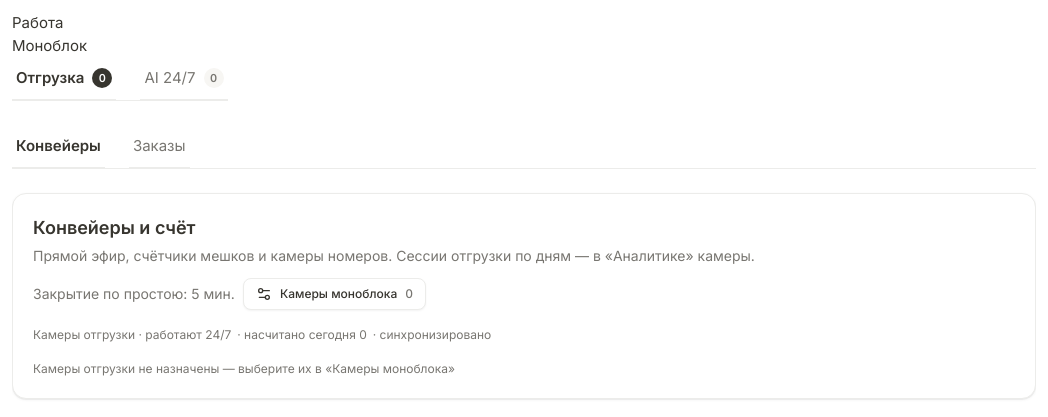
Scenario: доступ к AI 24/7 на странице моноблока › показывает настройку AI 24/7 только суперпользователю
Click the tab "AI 24/7 0" at (184, 79), box [140,57,228,101]
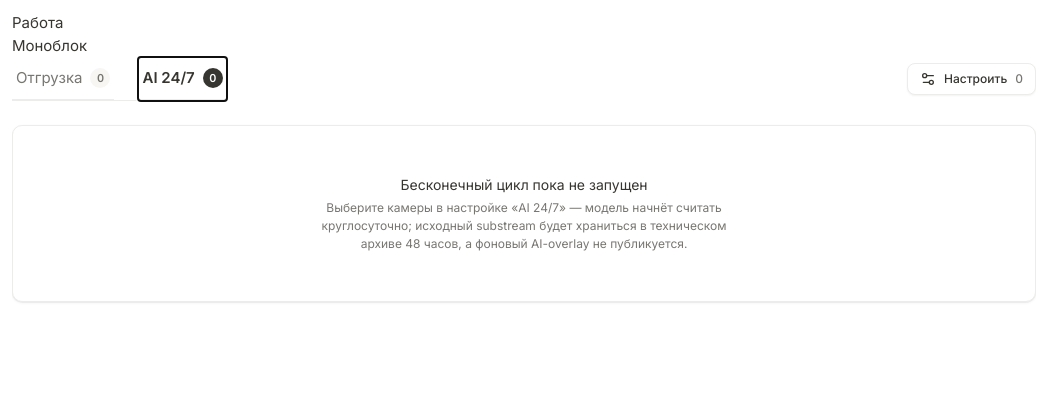
Expected: the button "Настроить 0" is shown, [907,63,1036,95]
